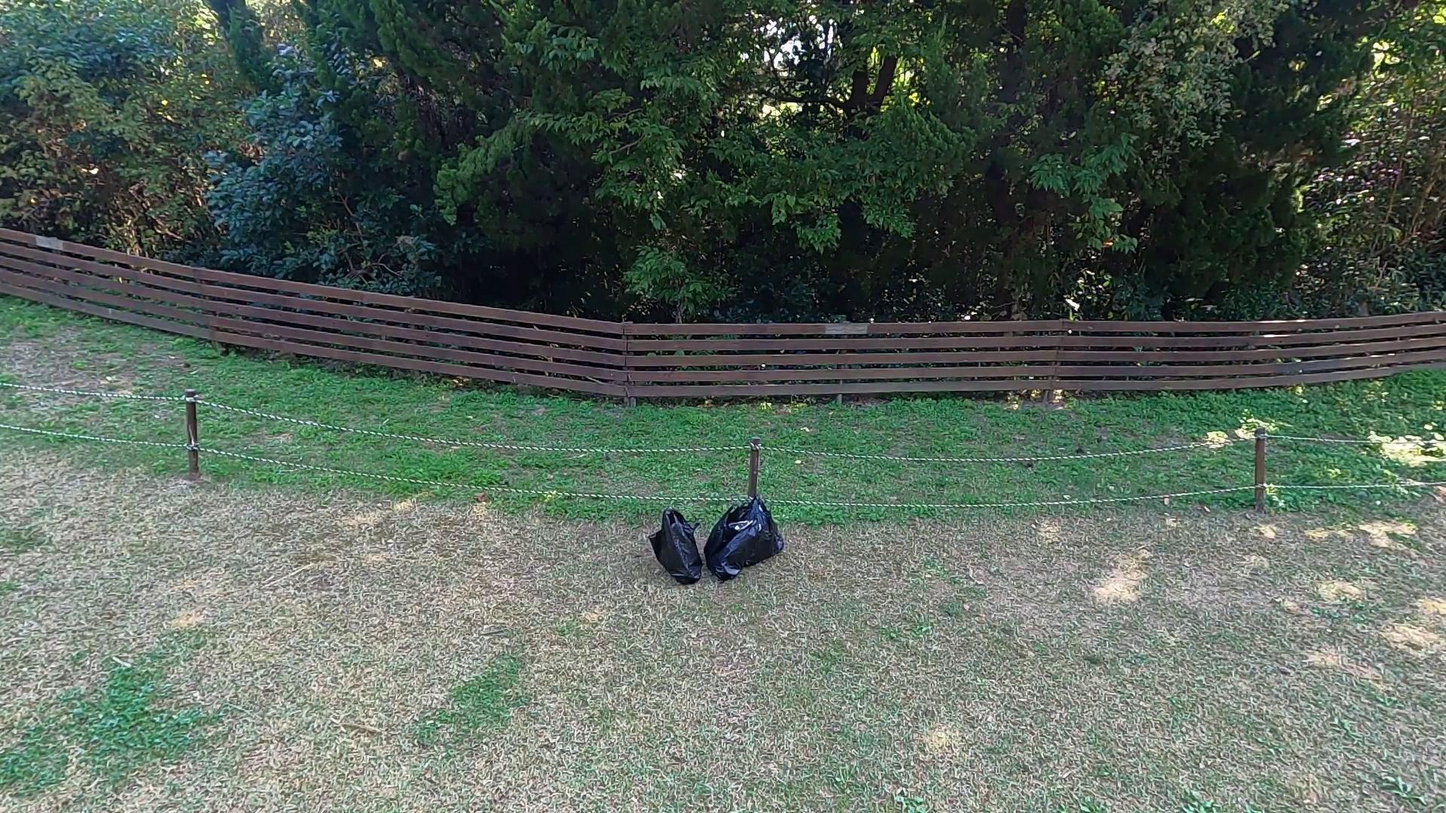trash: (698, 498, 790, 581), (642, 503, 705, 582)
